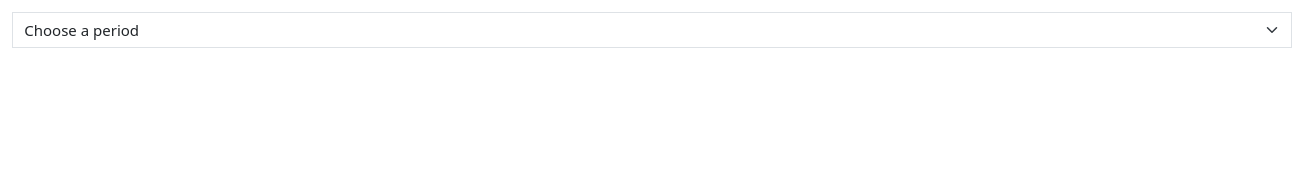
a creation form immediately displays the plain selected name and submits its period value
Select "Interwar (1918–1939)" in the dropdown at (652, 30), box [12, 12, 1292, 48]
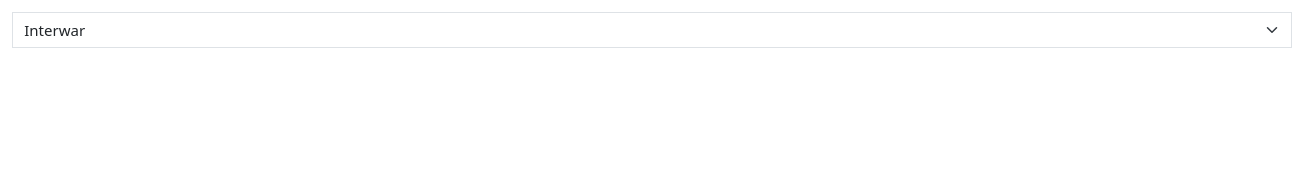
Expected: the text with class "option-label-select-value" reads "Interwar", [24, 20, 85, 40]
